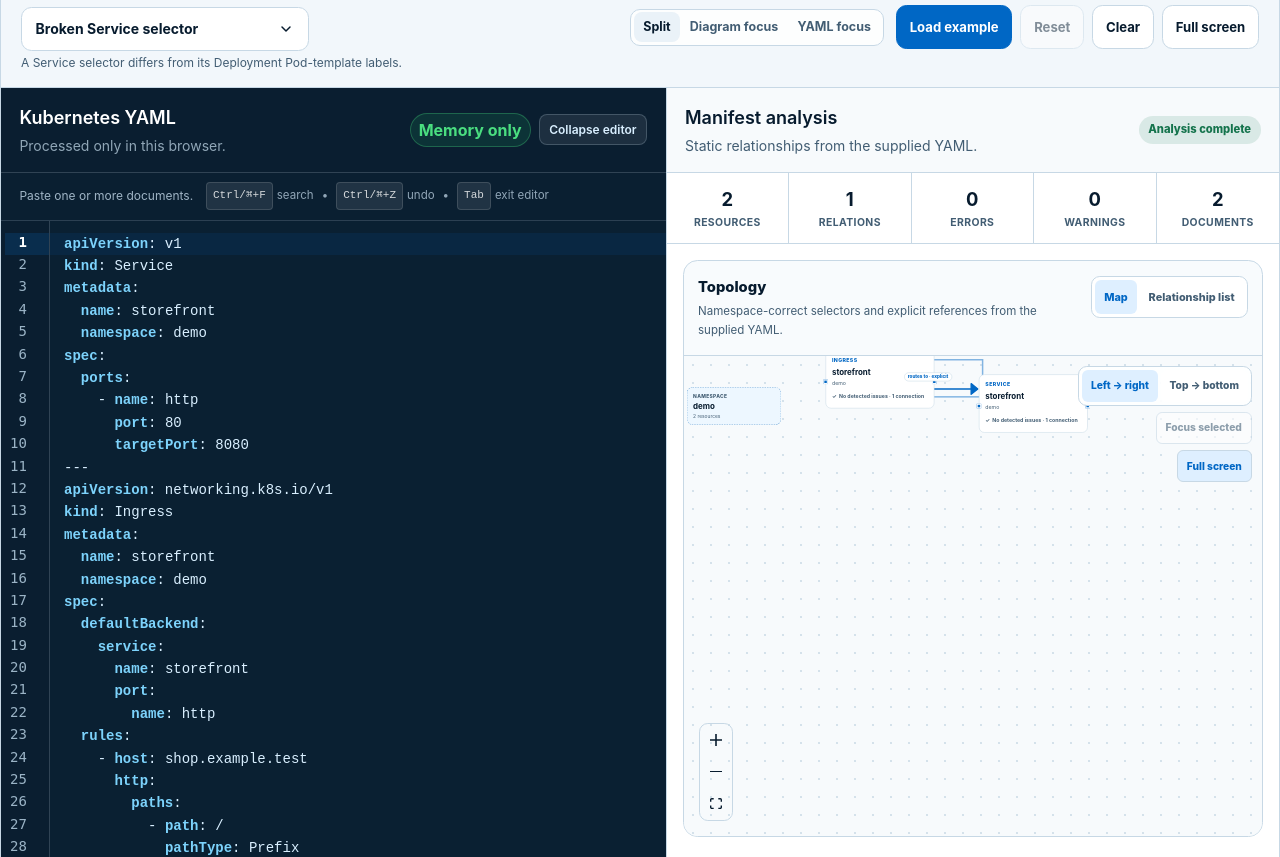
Scenario: ManifestWorkbench › keeps deduplicated Ingress route evidence in the map, list, inspector, and source actions
Press Enter
(page scrolled)
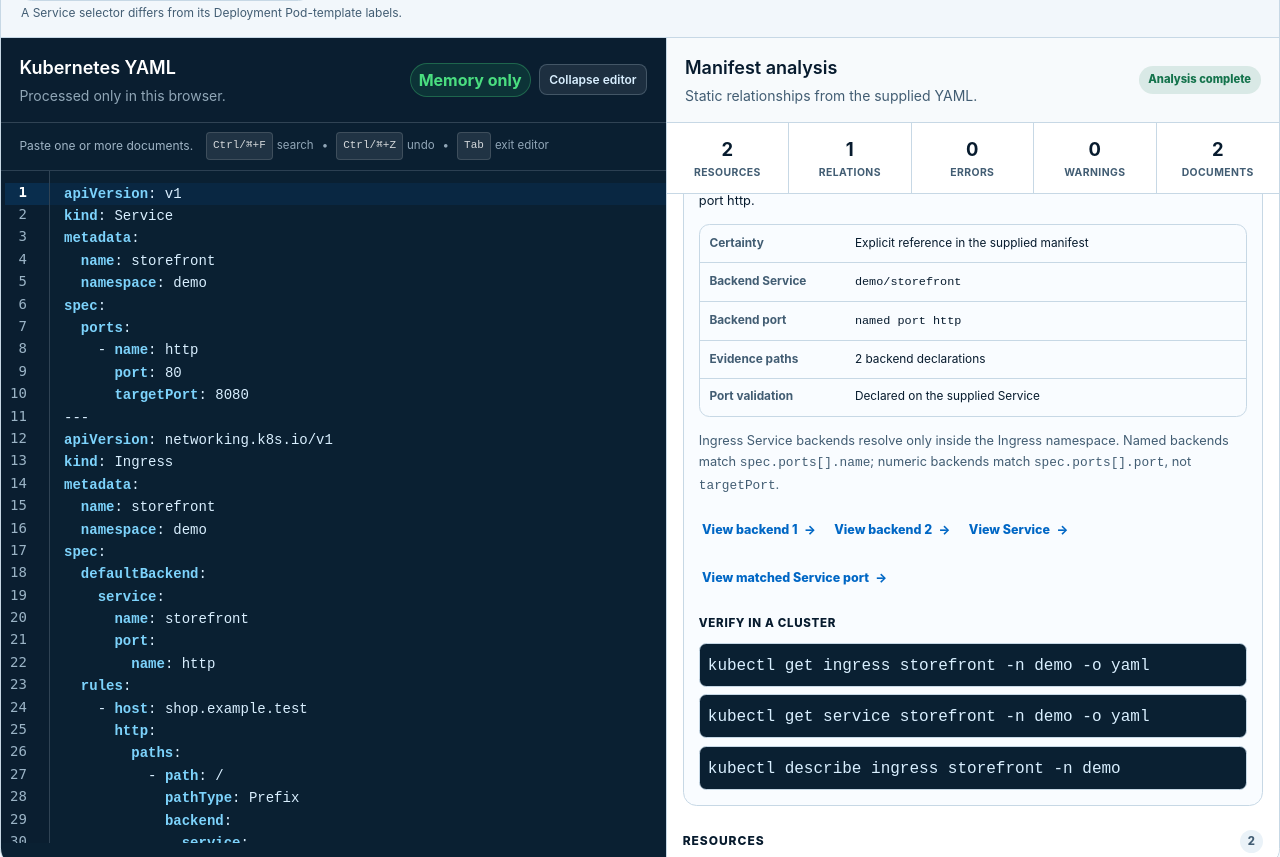
expect the element "Ingress routes to Service" shows "2 backend declarations": met, box 855,352 -> 985,366
expect the element "Ingress routes to Service" shows "Declared on the supplied Service": met, box 855,390 -> 1040,404
expect the number of buttons named "View Ingress backend" is 2: met
Click the button with aria-label "View Ingress backend 2": (892, 530) 831,508 -> 954,552
(page scrolled)
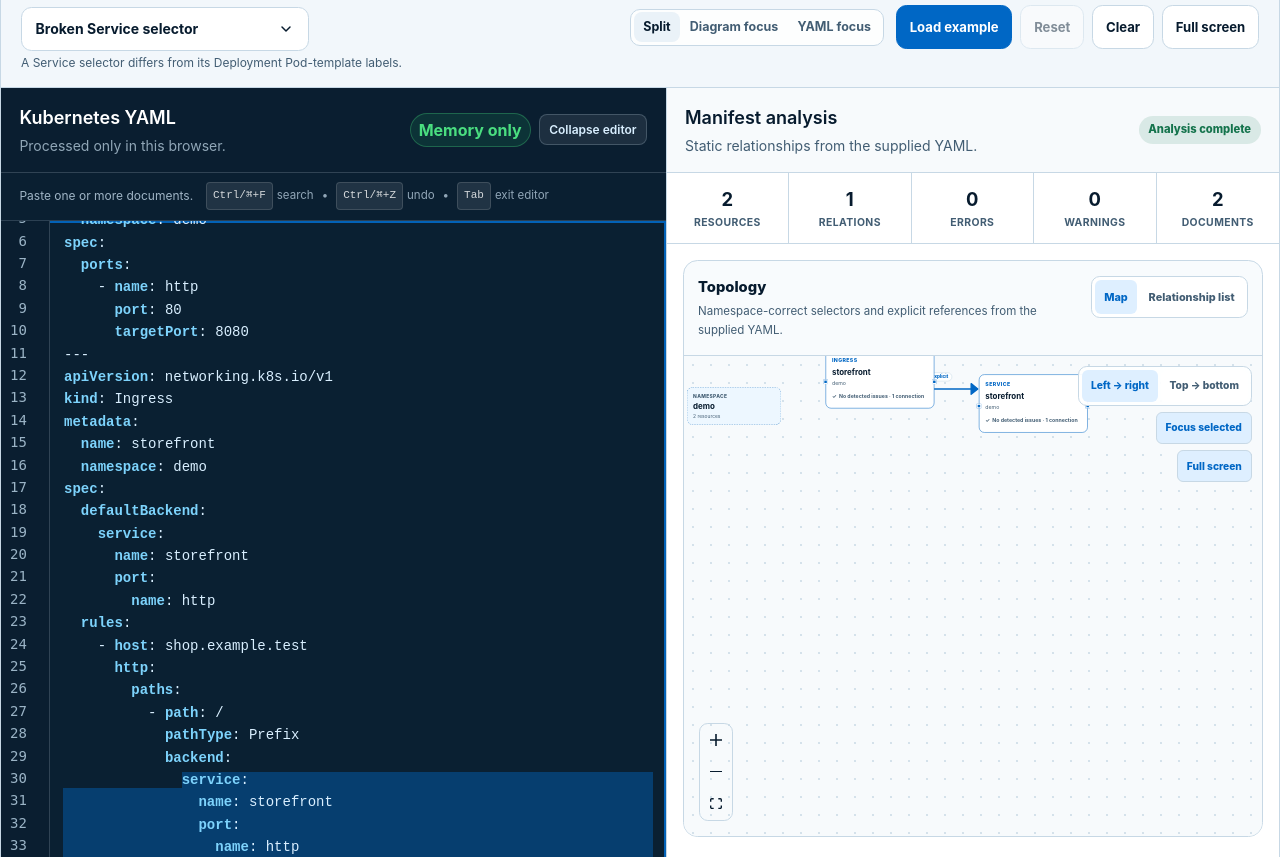
Click the button "Relationship list": (1192, 297) 1140,280 -> 1244,314
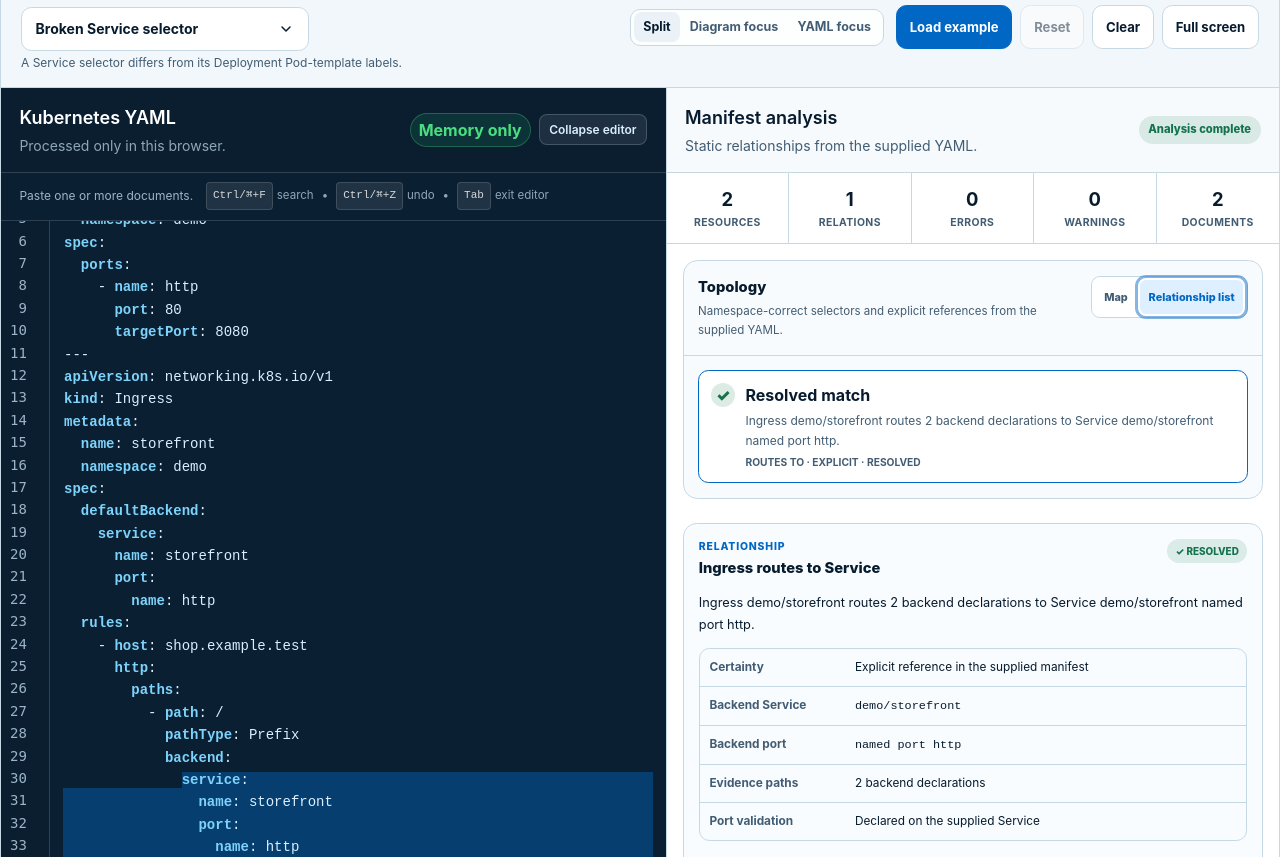
expect the element named "Semantic relationship list" shows "routes to · explicit · resolved": met, box 684,356 -> 1262,498
